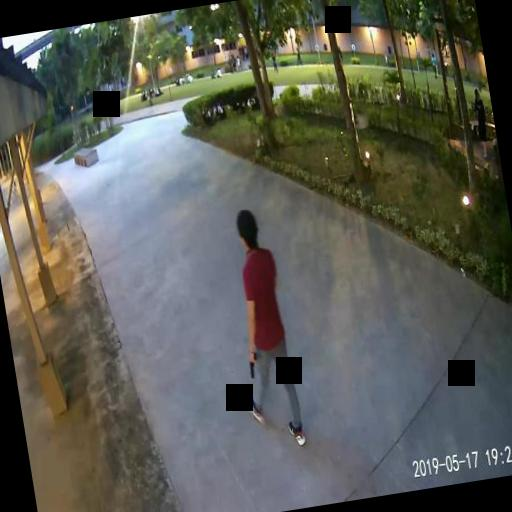Handgun: (244, 350, 258, 376)
